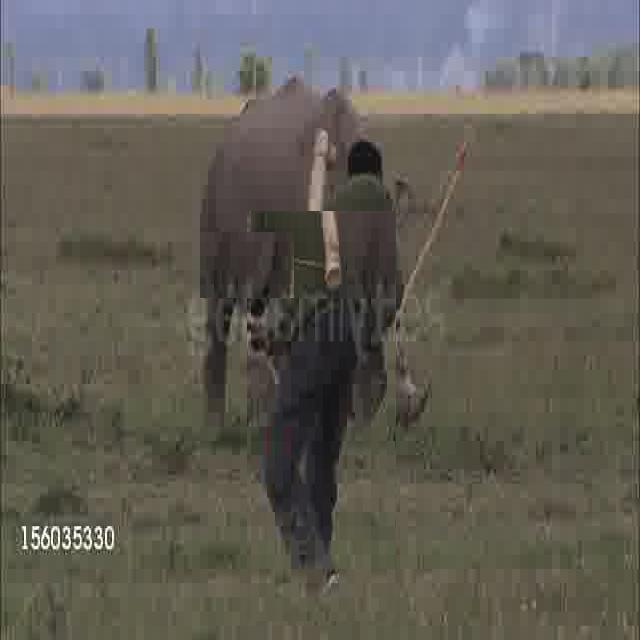poacher: (247, 211, 396, 621)
weapon: (200, 232, 294, 298)
